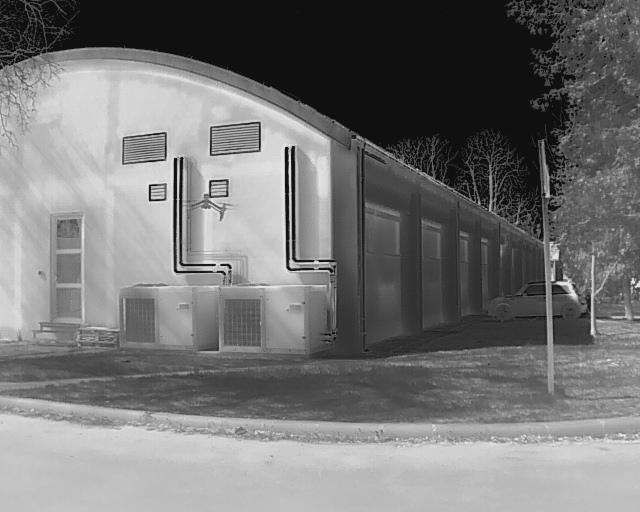drone: (175, 186, 234, 224)
